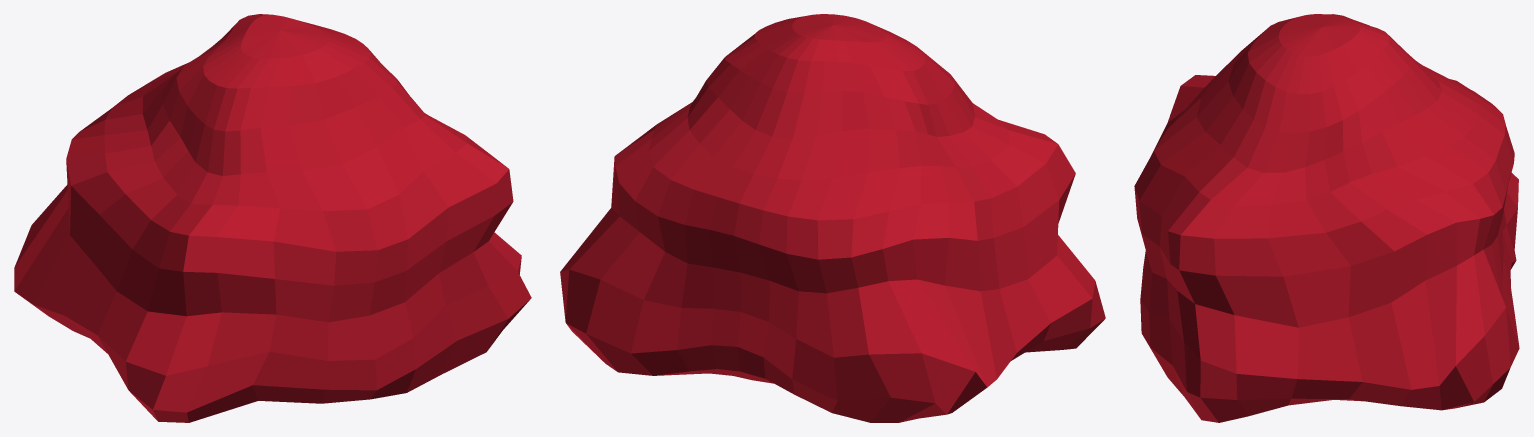
The model's file is tree-dead-leaves-026.glb.
3 renders of one model, left to right at view 1: azimuth 30°, elevation 25°; view 2: azimuth 150°, elevation 25°; view 3: azimuth 270°, elevation 25°, orthographic. The views are drawn at different scales.
Visible parts, largest first — view 1: Plane.095_468; view 2: Plane.095_468; view 3: Plane.095_468.
Boxes of the visible parts, x1,y1,x2,y2 form: Plane.095_468: (14,14,531,422); Plane.095_468: (560,14,1105,422); Plane.095_468: (1134,14,1519,422).
Bounding box in the file's own units: 1.11 × 0.8445 × 0.8905.
